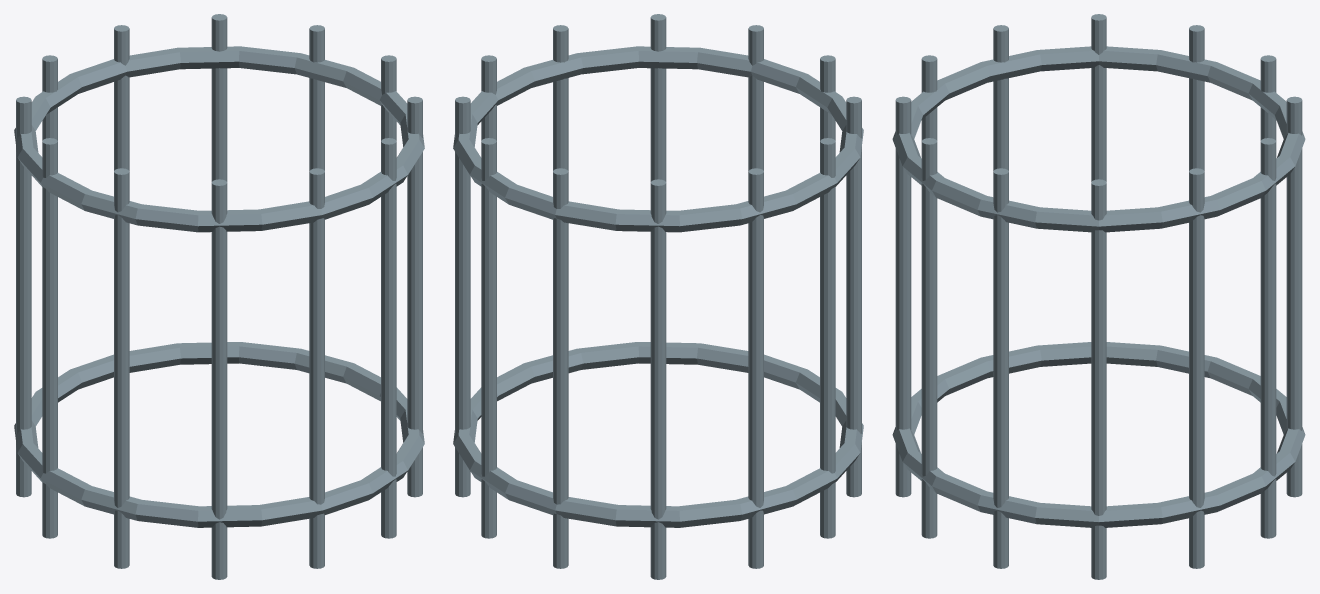
Rendered from tree_guard.glb.
The picture shows the model from 3 angles, left to right: view 1: azimuth 30°, elevation 25°; view 2: azimuth 150°, elevation 25°; view 3: azimuth 270°, elevation 25°; orthographic projection.
Visible parts, largest first — view 1: tree_guard_013, tree_guard_012, tree_guard_008, tree_guard_007, tree_guard_010, tree_guard_009, tree_guard_006, tree_guard_011, tree_guard_005, tree_guard_002, tree_guard_003, tree_guard_001 (+2 smaller); view 2: tree_guard_013, tree_guard_012, tree_guard_004, tree_guard_005, tree_guard_002, tree_guard_003, tree_guard_006, tree_guard_001, tree_guard_007, tree_guard_010, tree_guard_009, tree_guard_011 (+2 smaller); view 3: tree_guard_013, tree_guard_012, tree_guard_002, tree_guard_010, tree_guard_001, tree_guard_011, tree_guard_000, tree_guard_003, tree_guard_009, tree_guard_006, tree_guard_005, tree_guard_007 (+2 smaller).
Boxes of the visible parts, bbox=[...] form: tree_guard_013: bbox=[14, 46, 424, 232]; tree_guard_012: bbox=[14, 342, 424, 527]; tree_guard_008: bbox=[211, 179, 227, 579]; tree_guard_007: bbox=[114, 168, 129, 568]; tree_guard_010: bbox=[381, 138, 396, 538]; tree_guard_009: bbox=[309, 168, 324, 568]; tree_guard_006: bbox=[42, 138, 57, 538]; tree_guard_011: bbox=[407, 96, 422, 497]; tree_guard_005: bbox=[16, 96, 31, 497]; tree_guard_002: bbox=[211, 14, 227, 181]; tree_guard_003: bbox=[114, 25, 129, 171]; tree_guard_001: bbox=[309, 25, 324, 171]; tree_guard_013: bbox=[453, 46, 863, 232]; tree_guard_012: bbox=[453, 342, 863, 527]; tree_guard_004: bbox=[650, 179, 666, 579]; tree_guard_005: bbox=[748, 168, 763, 568]; tree_guard_002: bbox=[481, 138, 496, 538]; tree_guard_003: bbox=[553, 168, 568, 568]; tree_guard_006: bbox=[820, 138, 835, 538]; tree_guard_001: bbox=[455, 96, 470, 497]; tree_guard_007: bbox=[846, 96, 861, 497]; tree_guard_010: bbox=[650, 14, 666, 181]; tree_guard_009: bbox=[748, 25, 763, 171]; tree_guard_011: bbox=[553, 25, 568, 171]; tree_guard_013: bbox=[892, 46, 1305, 232]; tree_guard_012: bbox=[892, 342, 1305, 527]; tree_guard_002: bbox=[1260, 138, 1276, 538]; tree_guard_010: bbox=[921, 138, 937, 538]; tree_guard_001: bbox=[1189, 168, 1204, 568]; tree_guard_011: bbox=[993, 168, 1008, 568]; tree_guard_000: bbox=[1091, 179, 1106, 579]; tree_guard_003: bbox=[1286, 96, 1302, 497]; tree_guard_009: bbox=[895, 96, 911, 497]; tree_guard_006: bbox=[1091, 14, 1106, 181]; tree_guard_005: bbox=[1189, 25, 1204, 170]; tree_guard_007: bbox=[993, 25, 1008, 170].
Bounding box in the file's own units: 0.95 × 1 × 0.95.
